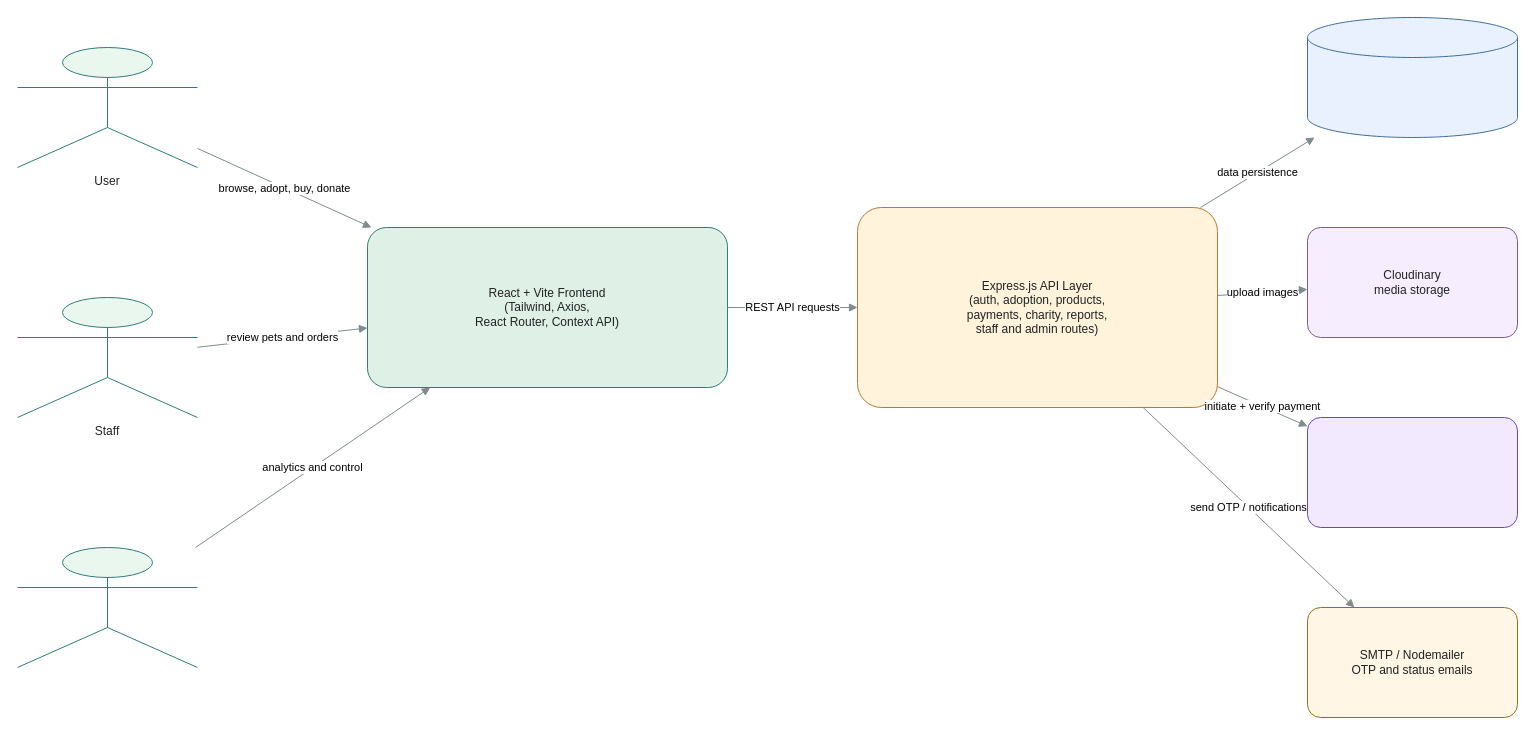
Image size: 1535x735. Some labels were removed from this diagram. The shapes that lost their labels are listed below. From the top down, each one's centre as x and y in pixels, then its label:
At [1412,77]: "MySQL Database".
At [1412,472]: "Khalti ePayment".
At [107,607]: "Admin".
